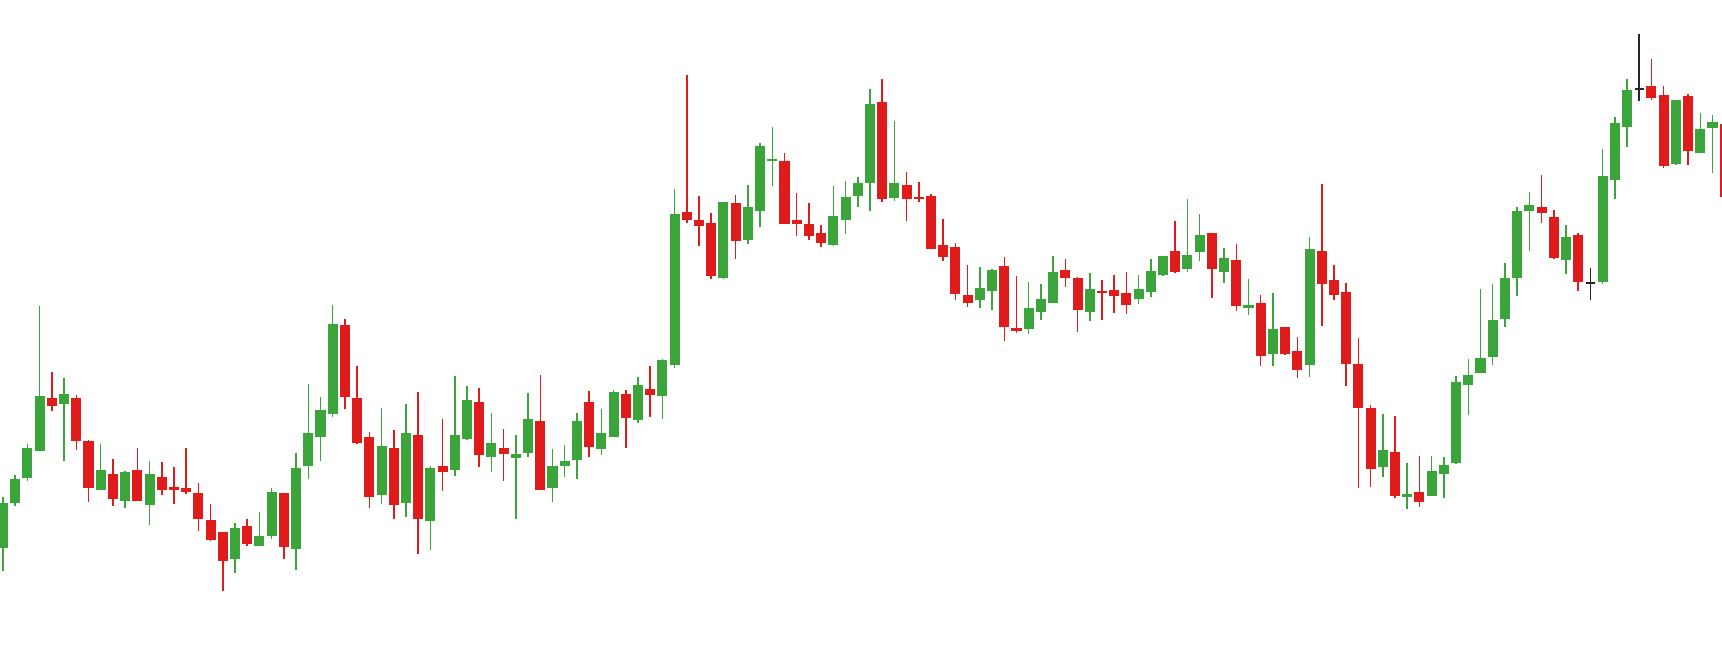sell: (45, 306, 350, 495), (1182, 186, 1330, 329), (765, 79, 888, 189)
